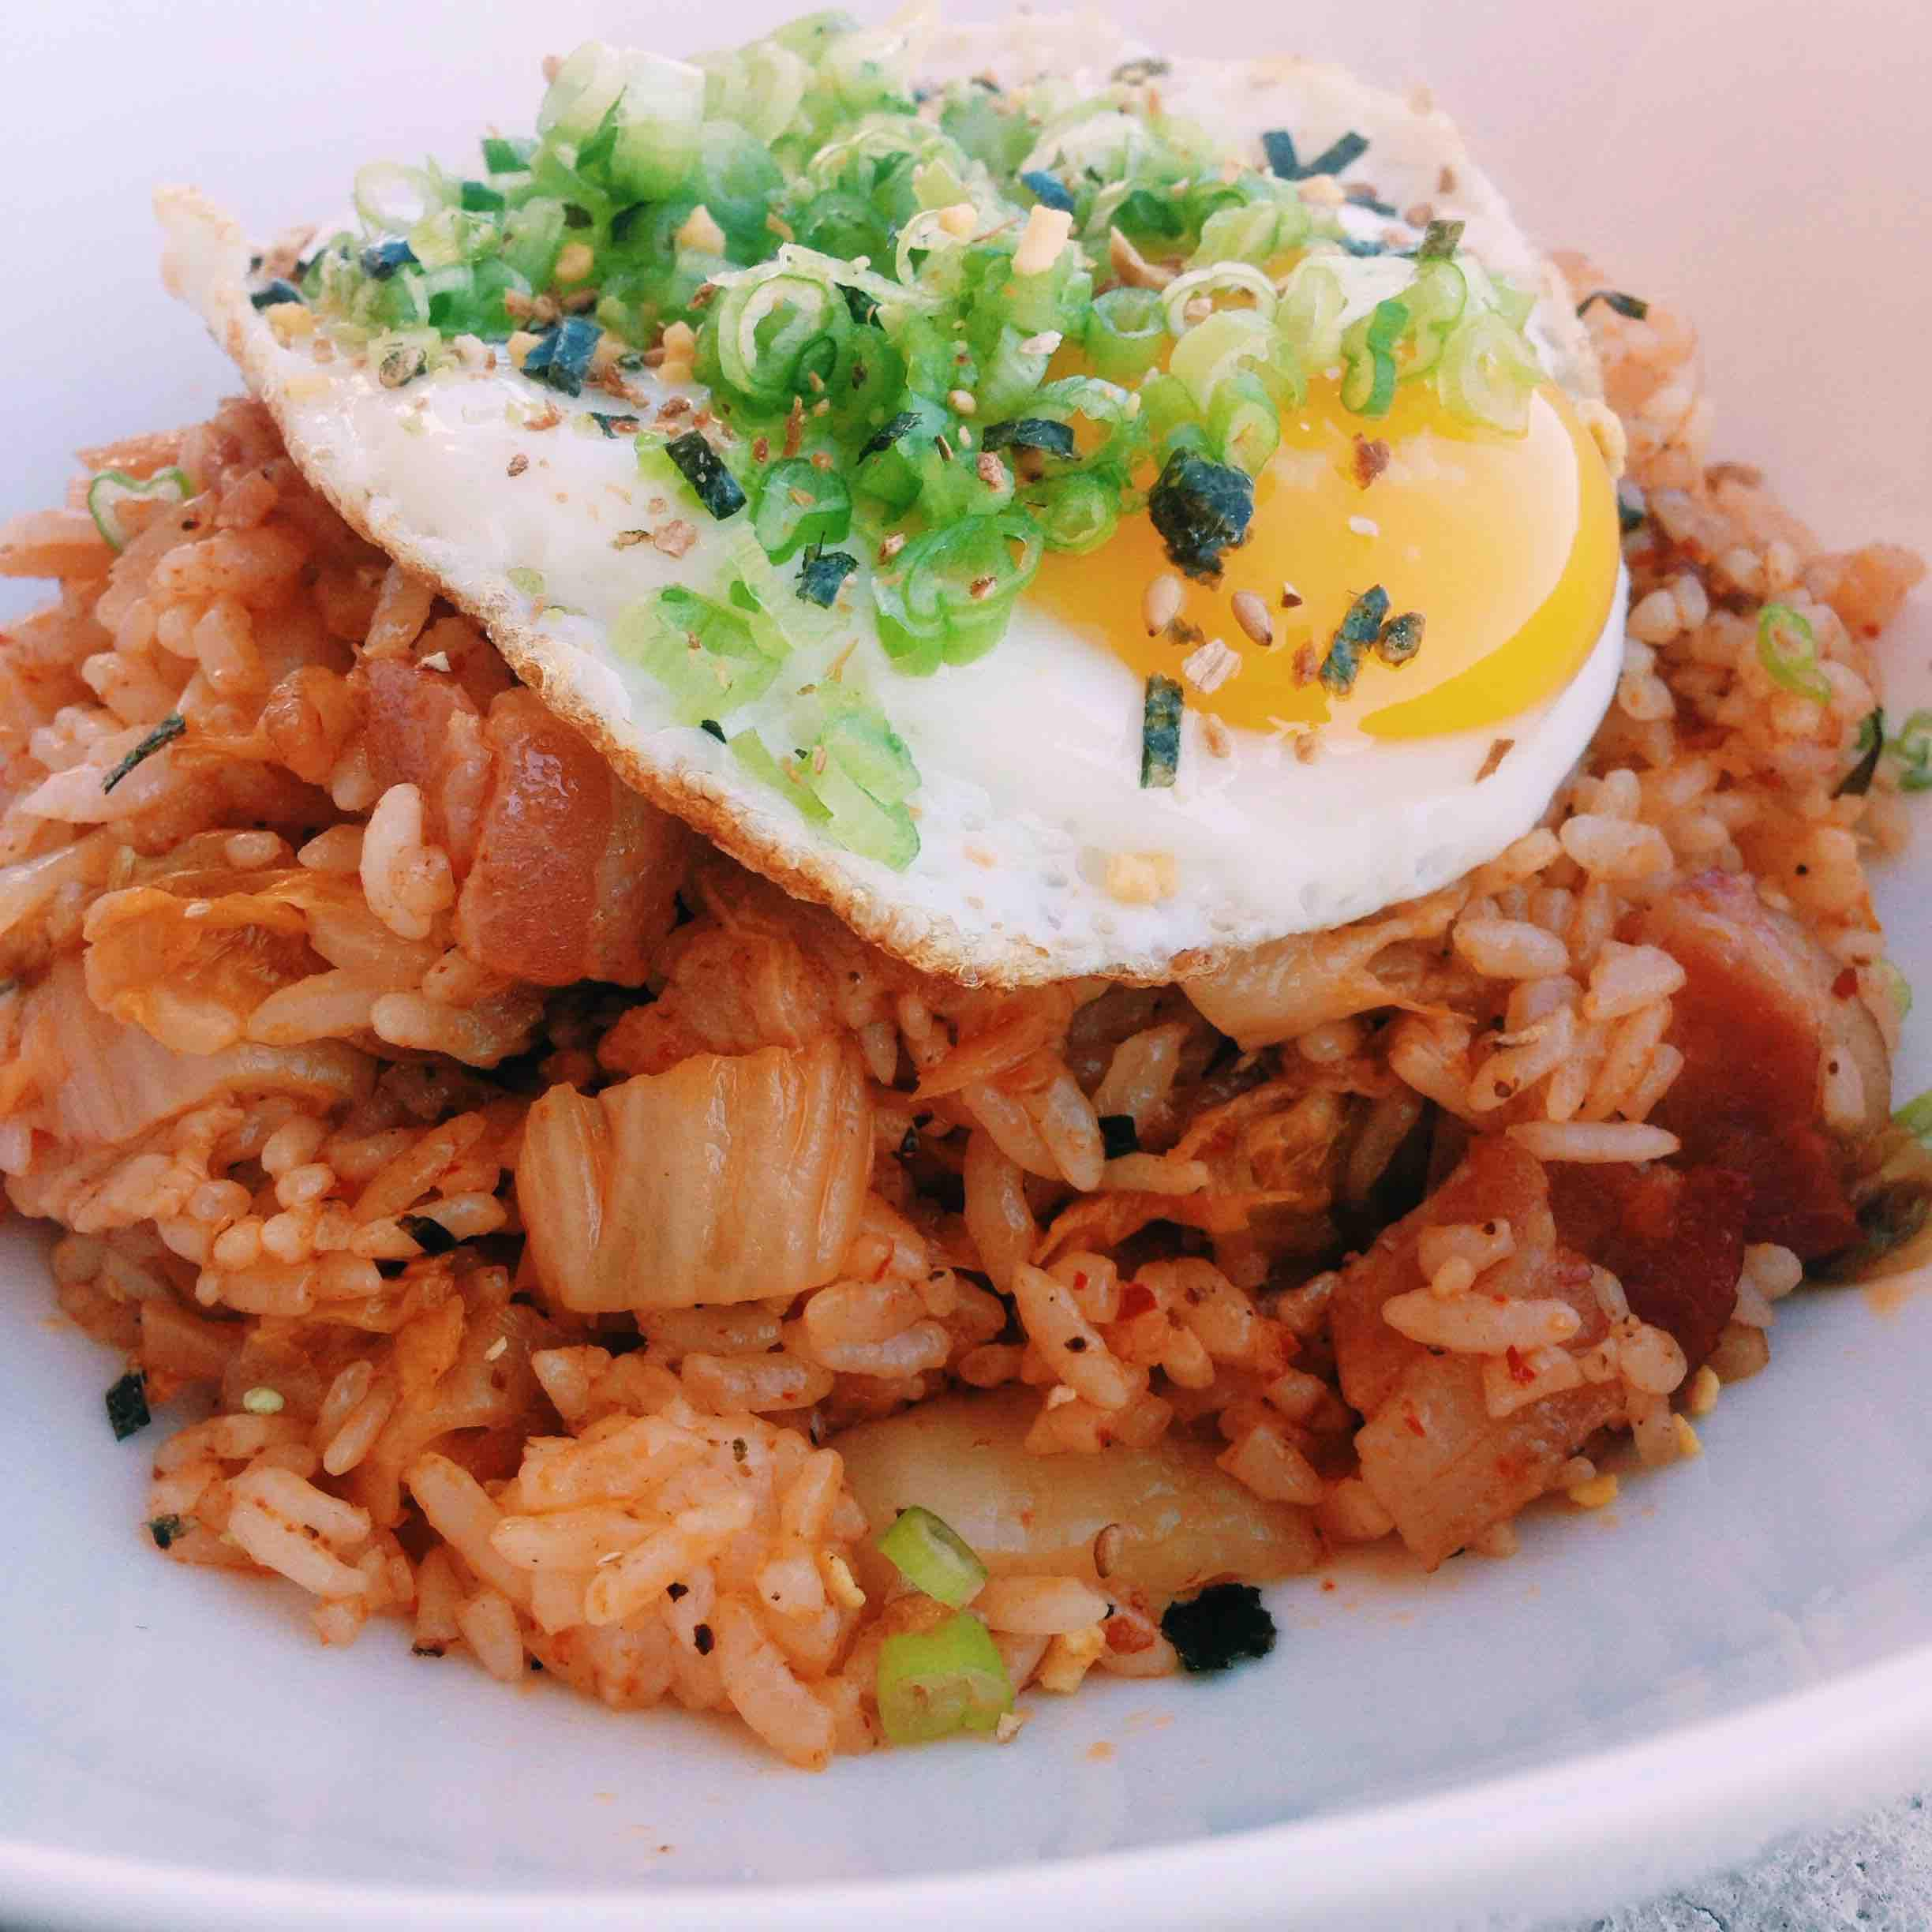fried egg: (271, 96, 1658, 934)
plain rice: (152, 1154, 632, 1606)
